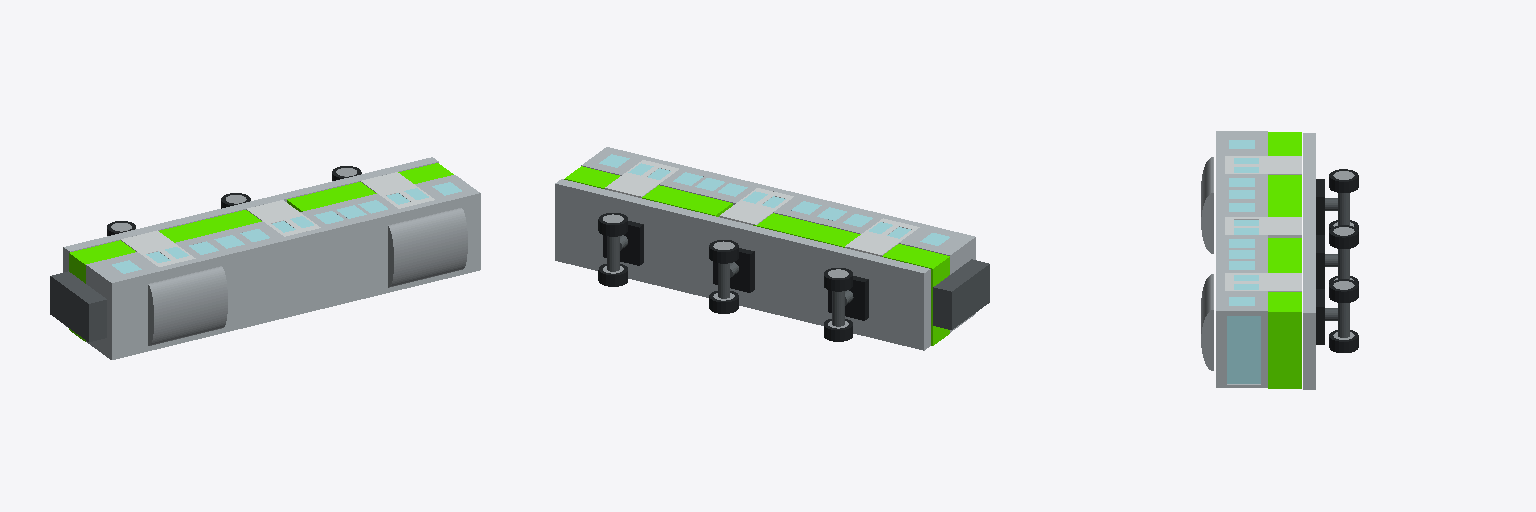
Rendered from tinker.obj.
3 renders of one model, left to right at view 1: azimuth 30°, elevation 25°; view 2: azimuth 150°, elevation 25°; view 3: azimuth 270°, elevation 25°, orthographic.
Visible parts, largest first — view 1: obj_0; view 2: obj_0; view 3: obj_0.
Boxes of the visible parts, box(x1,y1,x2,y2) form: obj_0: box(50, 157, 480, 359); obj_0: box(555, 147, 989, 350); obj_0: box(1201, 131, 1358, 389).
Size of the model in its own units: 106 by 20.2 by 37.